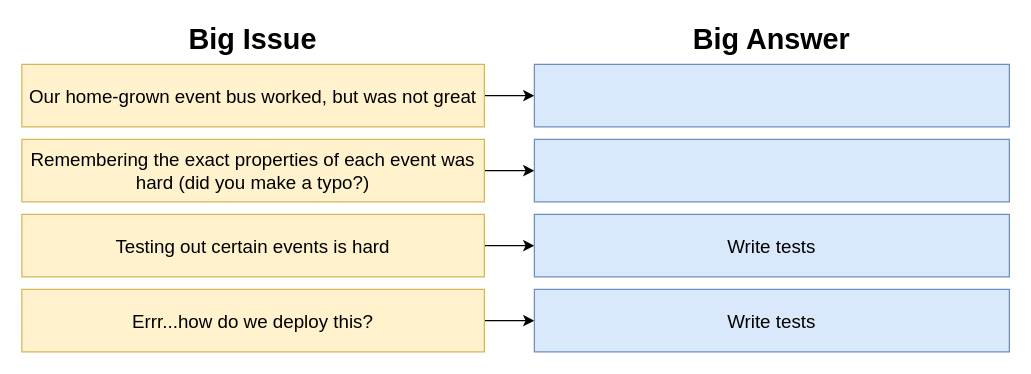
The diagram is 1031 pixels wide and 374 high, and some of its shapes have lost their labels. The box of each missing label's shape, as (x1, y1, x2, y2) in pixels:
Use a shared library that somehow validates event structure/properties: (533, 138, 1009, 202)
Use the NATS-Streaming event bus: (533, 63, 1009, 127)
